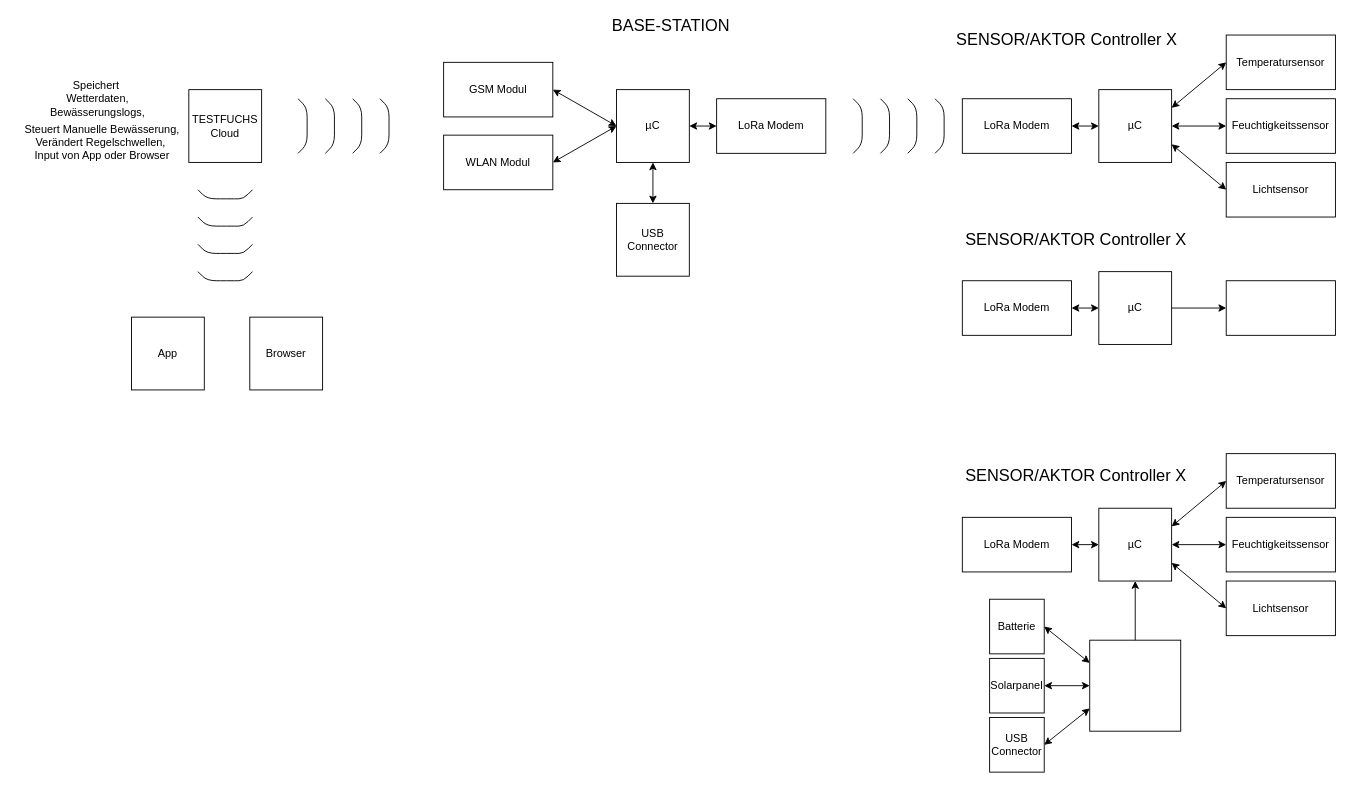
Image size: 1351x788. Some labels were removed from this diagram. The centre of each missing label's shape, as x and y in pixels:
Spannungs= =versorgung: the point at 1135,685
Wasserventil: the point at 1280,307
